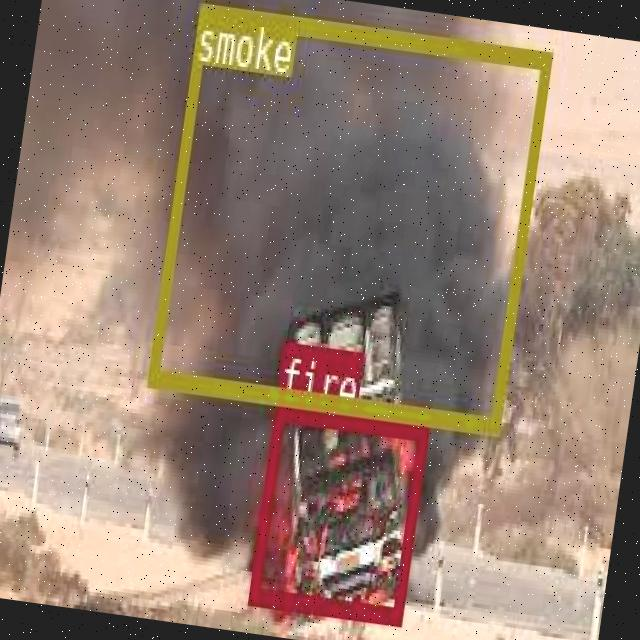fire: (246, 400, 428, 621)
smoke: (146, 1, 551, 430)
